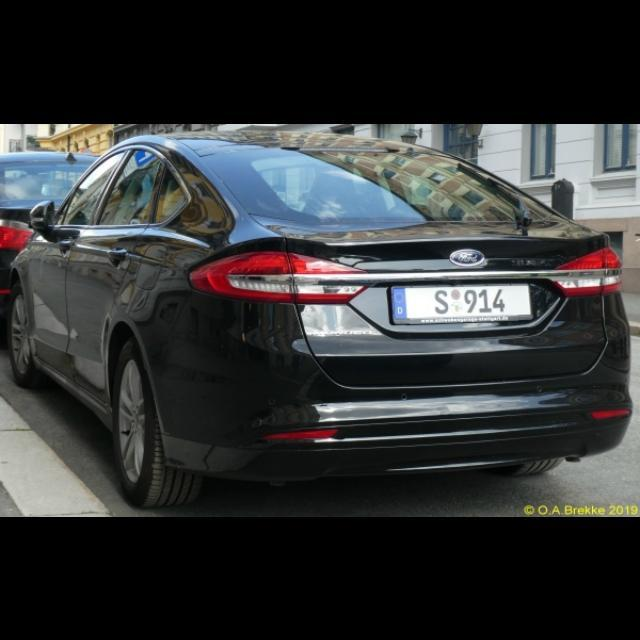license-plates: (392, 285, 532, 325)
